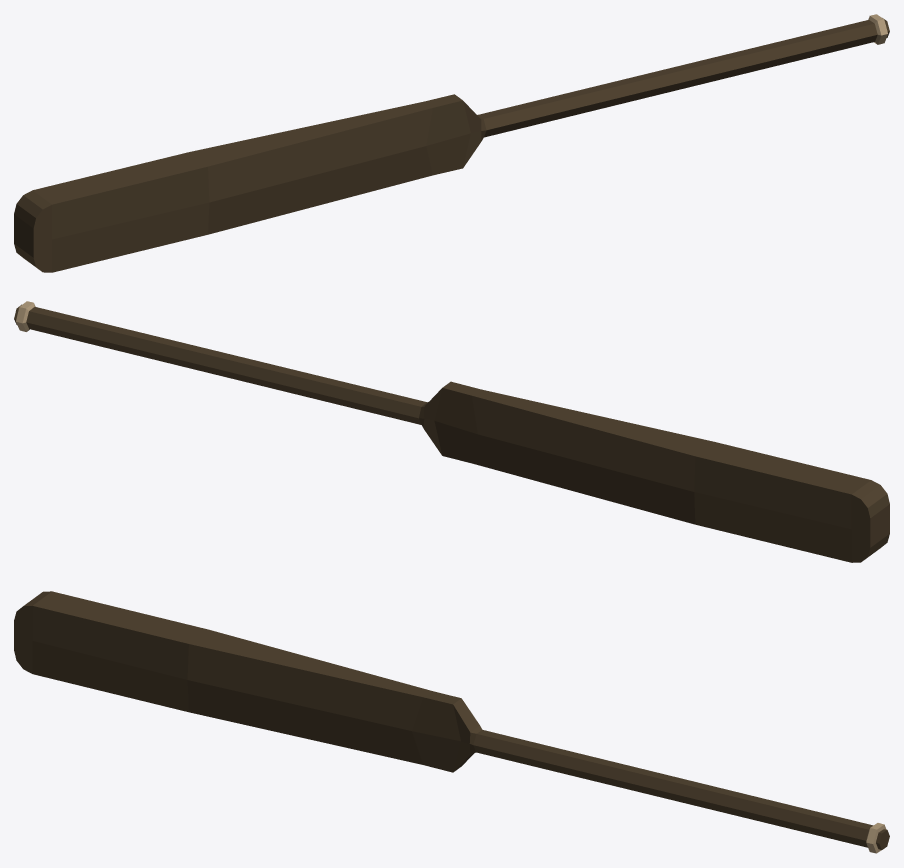
The model's file is Oar.fbx.
3 views of the same model, one above another, from view 1: azimuth 30°, elevation 25°; view 2: azimuth 150°, elevation 25°; view 3: azimuth 330°, elevation 25° (orthographic).
Parts seen in each view (by area): view 1: Eku; view 2: Eku; view 3: Eku.
Part boxes in pixels (box(x1,y1,x2,y2)): Eku: box(14, 14, 889, 272); Eku: box(14, 301, 889, 562); Eku: box(14, 591, 889, 853).
Bounding box in the file's own units: 224 × 17 × 9.96.
